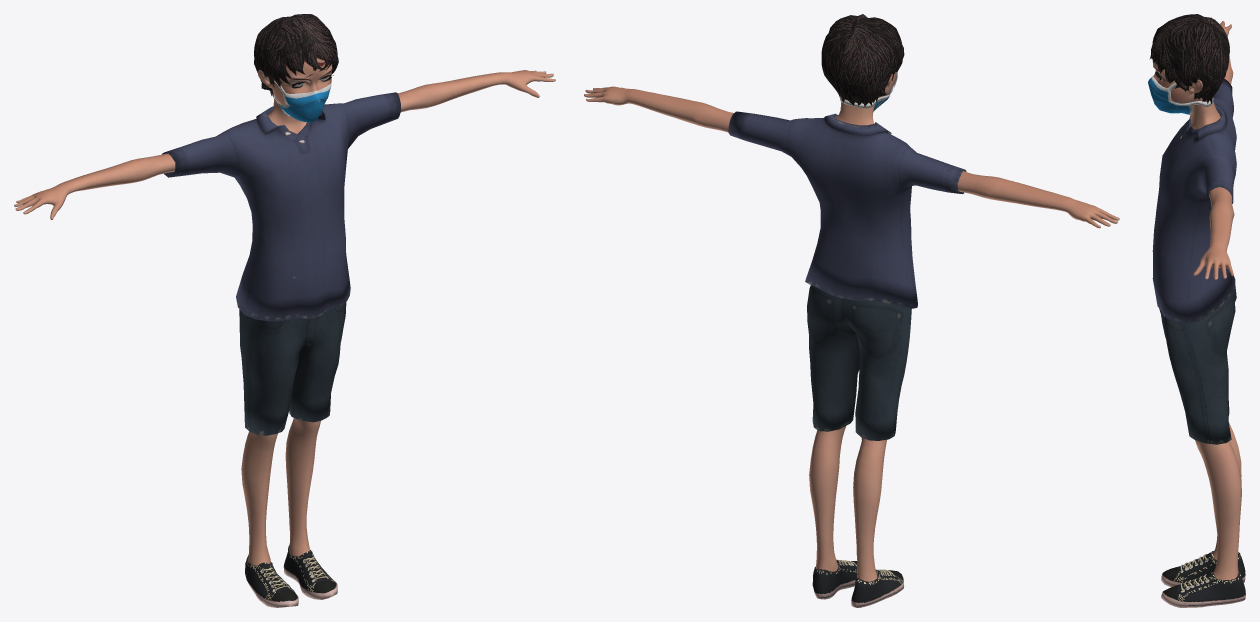
File: Boy.obj
The picture shows the model from 3 angles, left to right: view 1: azimuth 30°, elevation 25°; view 2: azimuth 150°, elevation 25°; view 3: azimuth 270°, elevation 25°; orthographic projection.
Visible parts, largest first — view 1: Tops, Body, Bottoms, Hair, Shoes, Masks; view 2: Tops, Body, Bottoms, Hair, Shoes; view 3: Tops, Body, Bottoms, Hair, Shoes, Masks.
Part boxes in pixels (x1,y1,x2,y2): Tops: [162, 92, 401, 321]; Body: [14, 57, 555, 565]; Bottoms: [239, 302, 346, 435]; Hair: [254, 14, 338, 95]; Shoes: [245, 545, 337, 607]; Masks: [272, 75, 331, 122]; Tops: [728, 111, 966, 308]; Body: [584, 74, 1119, 581]; Bottoms: [807, 285, 911, 440]; Hair: [821, 14, 904, 106]; Shoes: [812, 559, 903, 607]; Tops: [1152, 78, 1236, 323]; Body: [1152, 19, 1241, 580]; Bottoms: [1159, 285, 1236, 444]; Hair: [1149, 14, 1229, 103]; Shoes: [1161, 551, 1245, 607]; Masks: [1148, 75, 1213, 114].
Bounding box in the file's own units: 32.65 × 33.4 × 5.15.
Materials: 1 (1 with a texture image).
